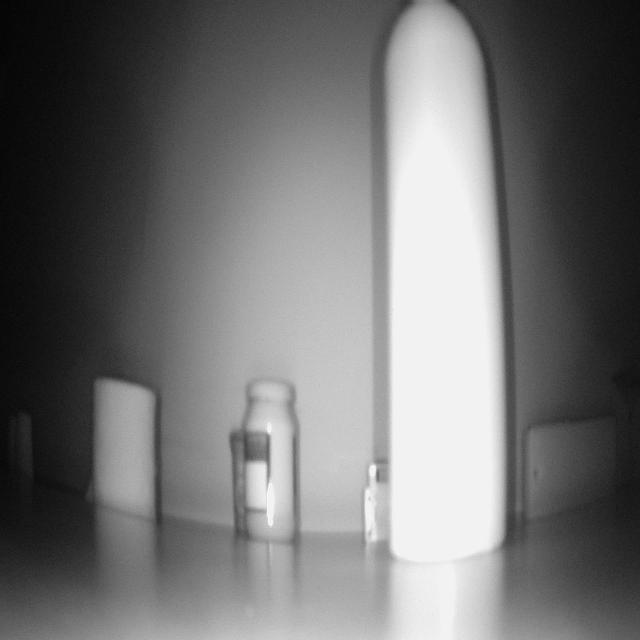targets: (386, 3, 500, 564), (230, 375, 301, 548), (522, 414, 621, 522), (85, 374, 161, 514), (7, 408, 35, 482)
